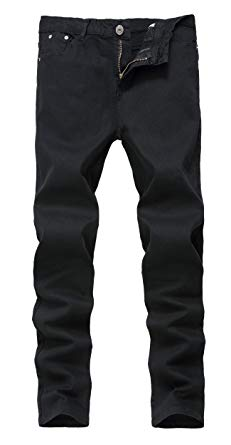Jeans: (24, 9, 212, 432)
